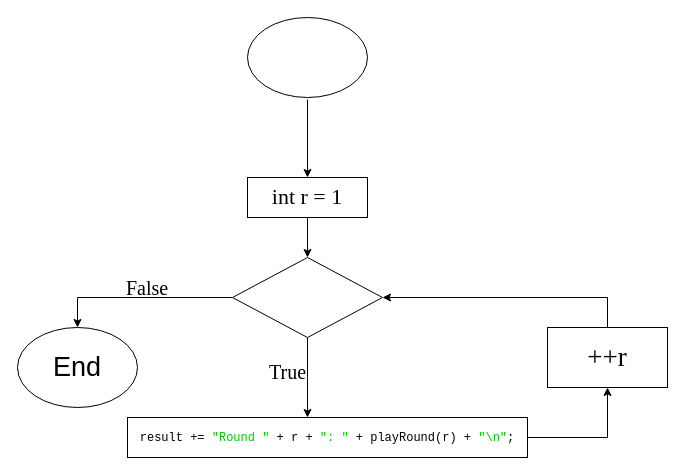
Image size: 685x475. Some labels were removed from this diagram. Here are the shapes that lost their labels. From the top down, the centre of each, then its label:
(x=307, y=57): Start
(x=307, y=297): r <= totRounds
